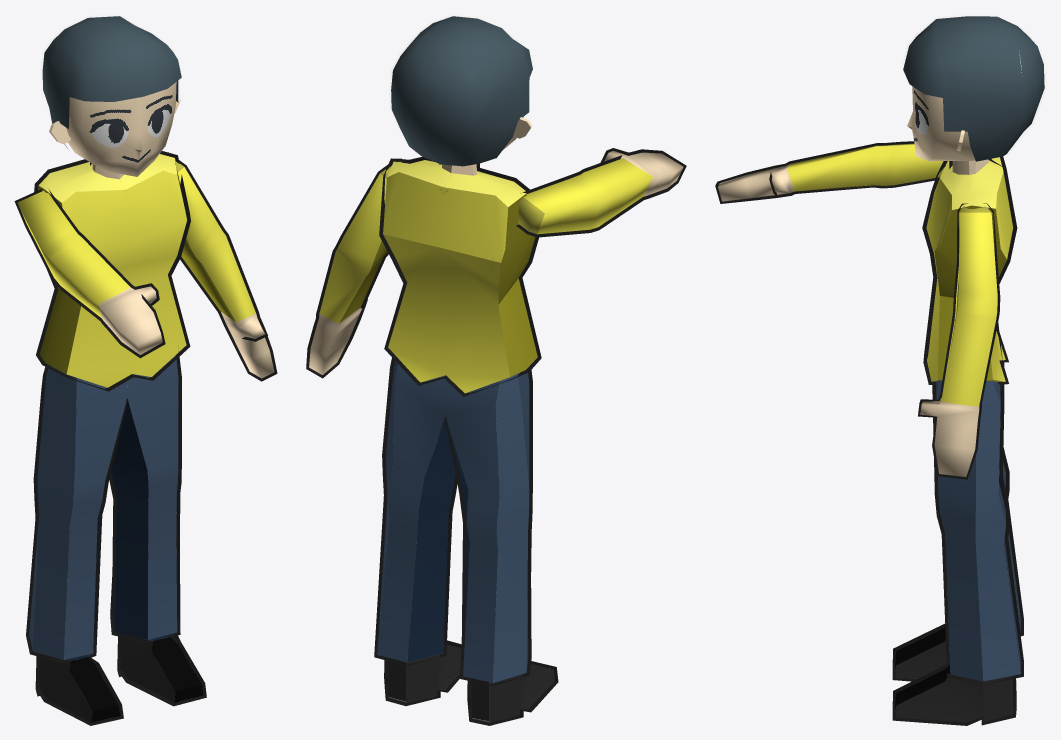
Rendered from maincharhandfix.glb.
The picture shows the model from 3 angles, left to right: view 1: azimuth 30°, elevation 25°; view 2: azimuth 150°, elevation 25°; view 3: azimuth 270°, elevation 25°; orthographic projection.
Visible parts, largest first — view 1: Legs M, Torso M, Hands M, MAN BASE, Head M; view 2: Legs M, Torso M, MAN BASE, Hands M; view 3: Legs M, Hands M, MAN BASE, Torso M, Head M.
Part boxes in pixels (box(x1,y1,x2,y2)): Legs M: box(26, 348, 206, 725); Torso M: box(34, 151, 190, 391); Hands M: box(14, 152, 277, 381); MAN BASE: box(40, 14, 183, 148); Head M: box(66, 82, 176, 176); Legs M: box(374, 358, 558, 725); Torso M: box(379, 156, 541, 396); MAN BASE: box(389, 14, 534, 166); Hands M: box(306, 148, 686, 378); Legs M: box(892, 362, 1023, 725); Hands M: box(715, 141, 1000, 479); MAN BASE: box(901, 14, 1046, 161); Torso M: box(922, 156, 1017, 384); Head M: box(907, 86, 974, 161).
Bounding box in the file's own units: 3.71 × 8.95 × 4.
7 materials, 5 textured.
